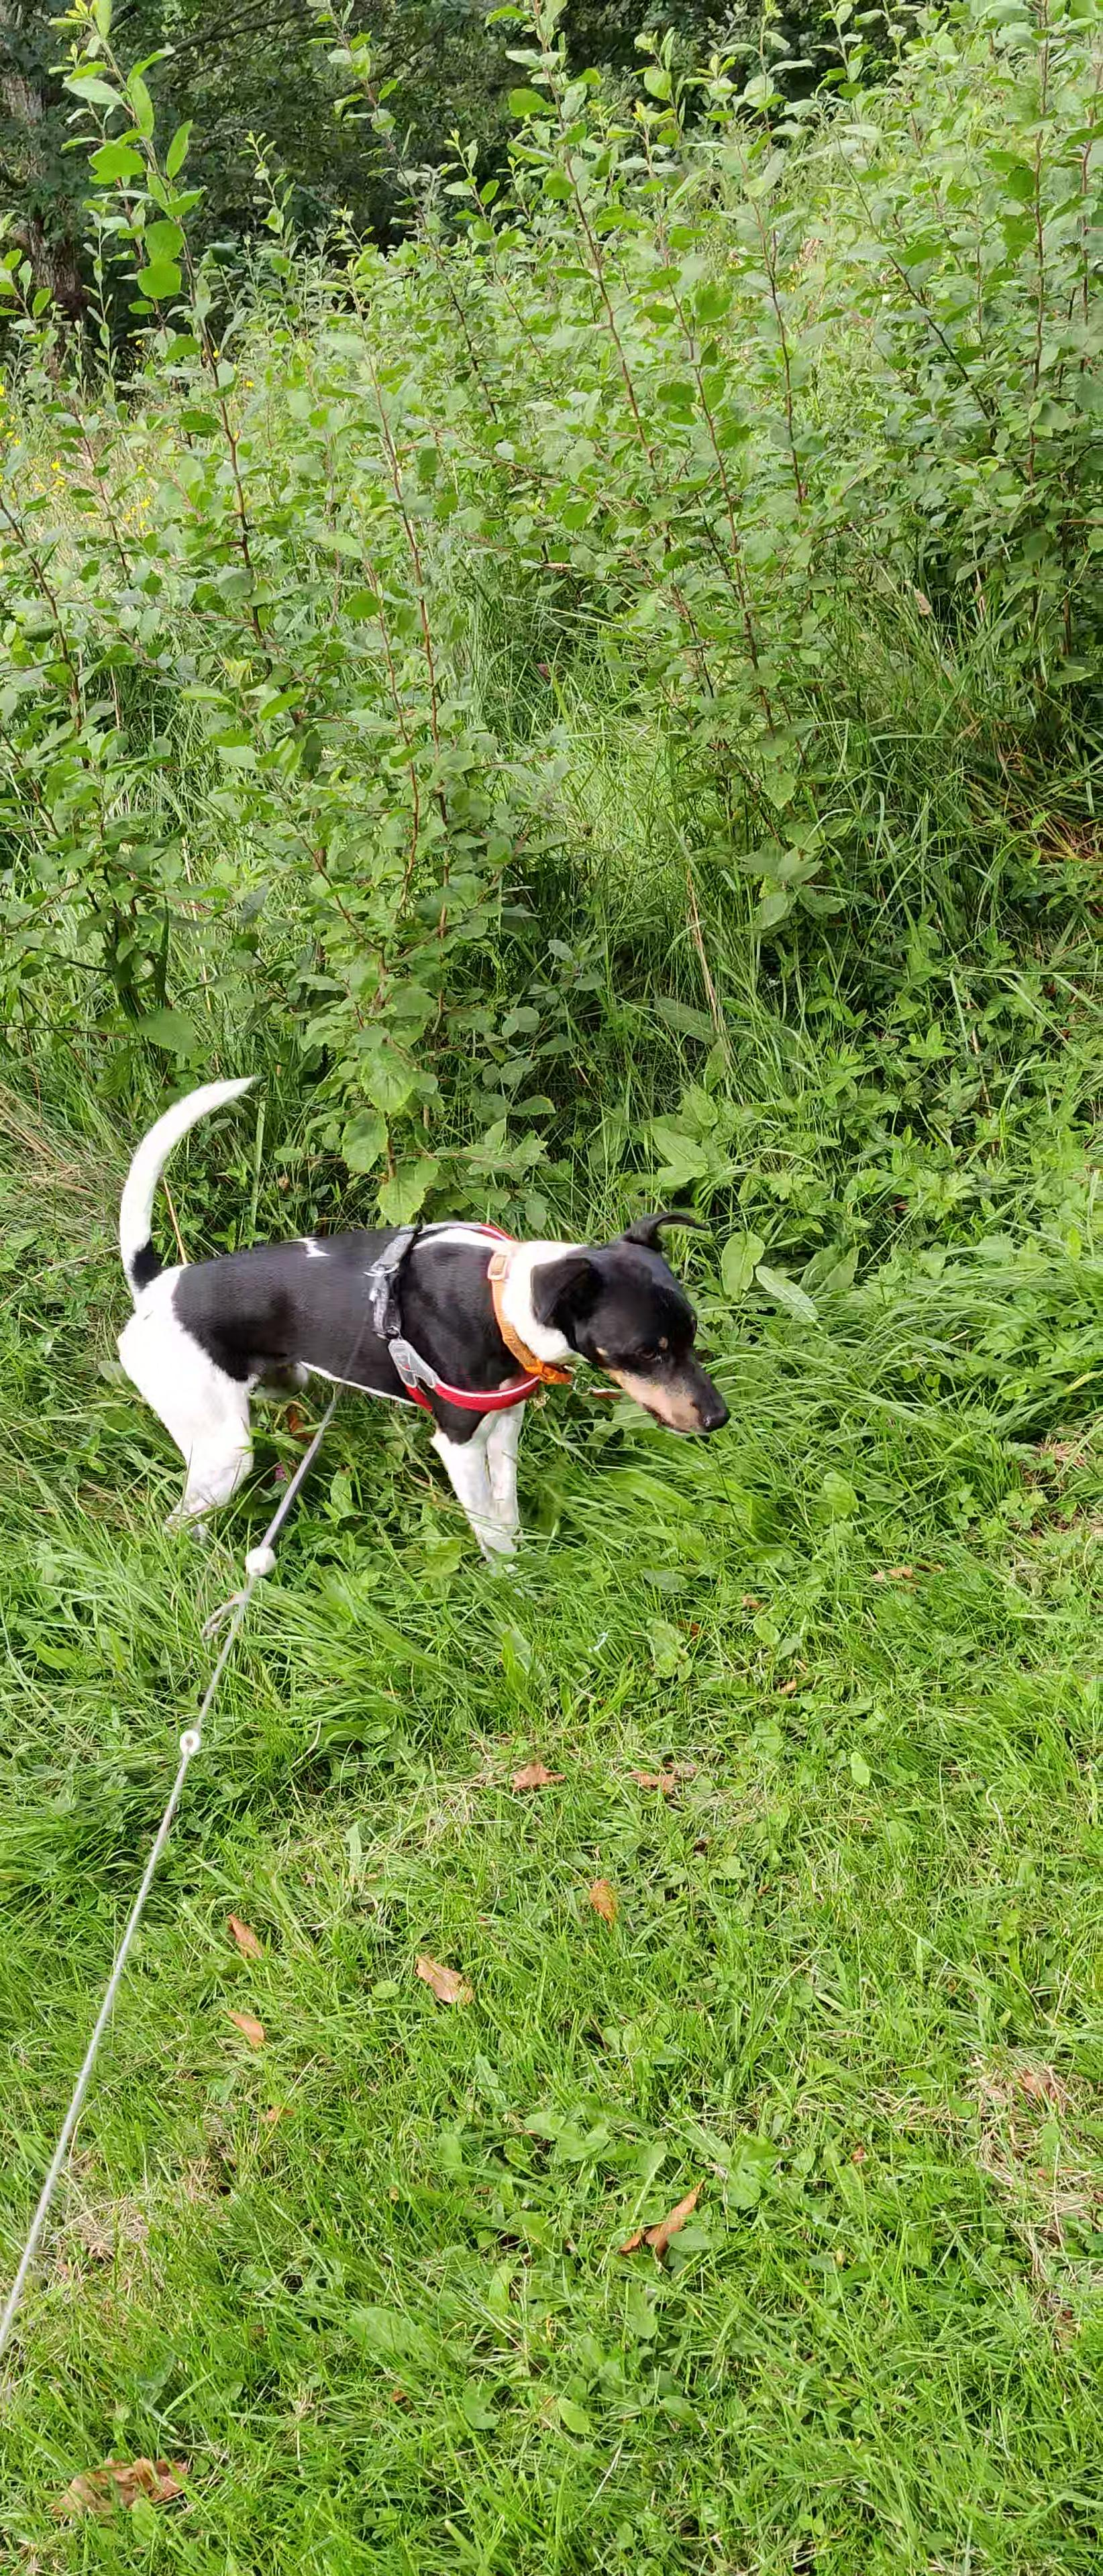Dog: (99, 1063, 743, 1589)
